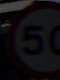Speed limit: (5, 8, 56, 66)
